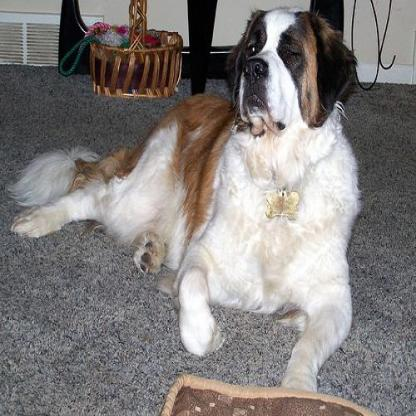Saint_Bernard: (6, 7, 361, 397)
